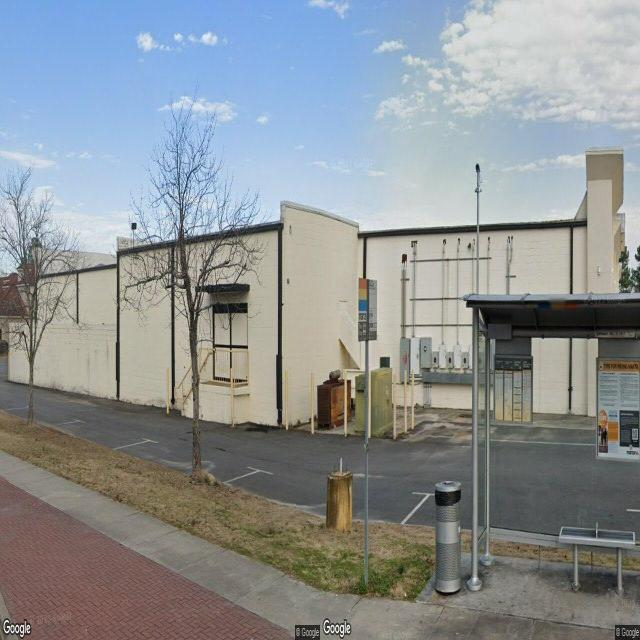seating: (558, 522, 638, 598)
shelter: (460, 288, 640, 613)
trash_can: (434, 480, 462, 595)
